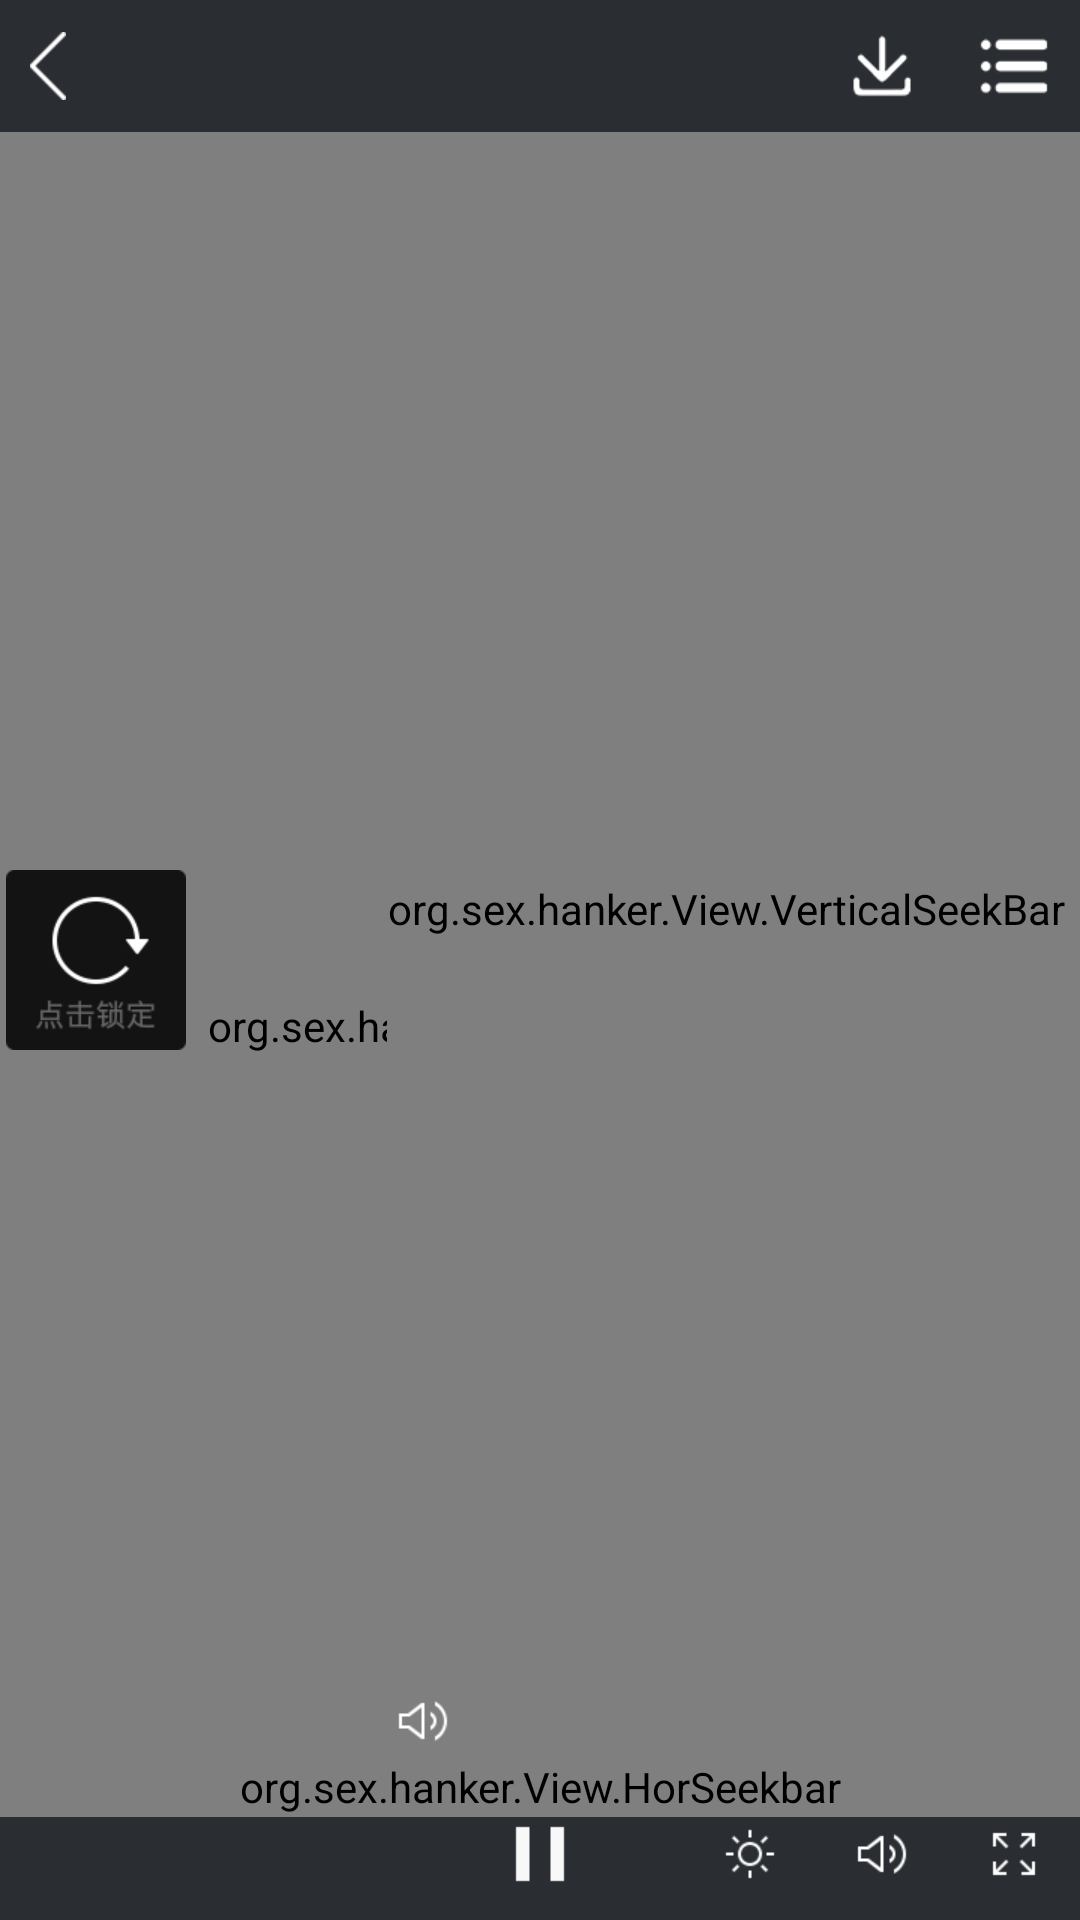

Screen size 1080×1920. Icon name, then its box in pixels as (x1, y1, x2, y2):
back: (30, 32, 66, 100)
download: (853, 36, 911, 96)
list: (980, 39, 1048, 93)
